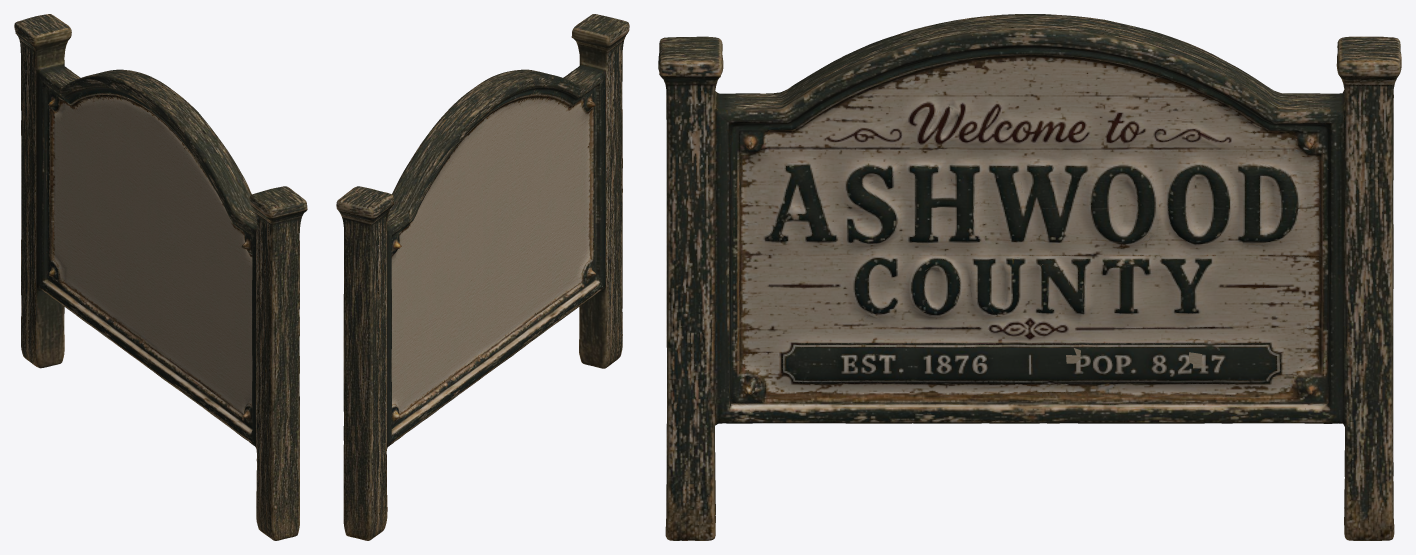
File: welcome_sign.gltf
3 renders of one model, left to right at view 1: azimuth 30°, elevation 25°; view 2: azimuth 150°, elevation 25°; view 3: azimuth 270°, elevation 25°, orthographic. The views are drawn at different scales.
Parts seen in each view (by area): view 1: tripo_node_72a2e3f9-8686-43b0-9c30-8472689b5b68; view 2: tripo_node_72a2e3f9-8686-43b0-9c30-8472689b5b68; view 3: tripo_node_72a2e3f9-8686-43b0-9c30-8472689b5b68.
Boxes of the visible parts, x1=… form: tripo_node_72a2e3f9-8686-43b0-9c30-8472689b5b68: x1=14, y1=14, x2=307, y2=540; tripo_node_72a2e3f9-8686-43b0-9c30-8472689b5b68: x1=336, y1=14, x2=629, y2=540; tripo_node_72a2e3f9-8686-43b0-9c30-8472689b5b68: x1=658, y1=14, x2=1401, y2=540.
Bounding box in the file's own units: 0.0885 × 0.7596 × 0.9994.
Materials: 1 (1 with a texture image).
